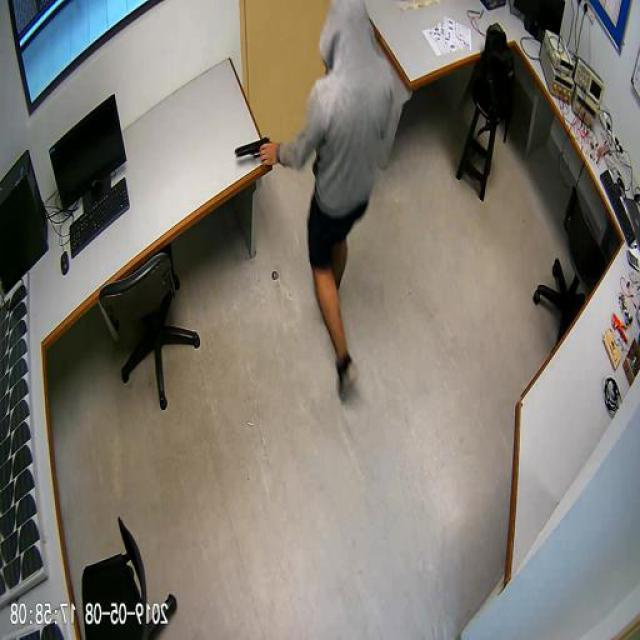Gun: (236, 134, 270, 166)
